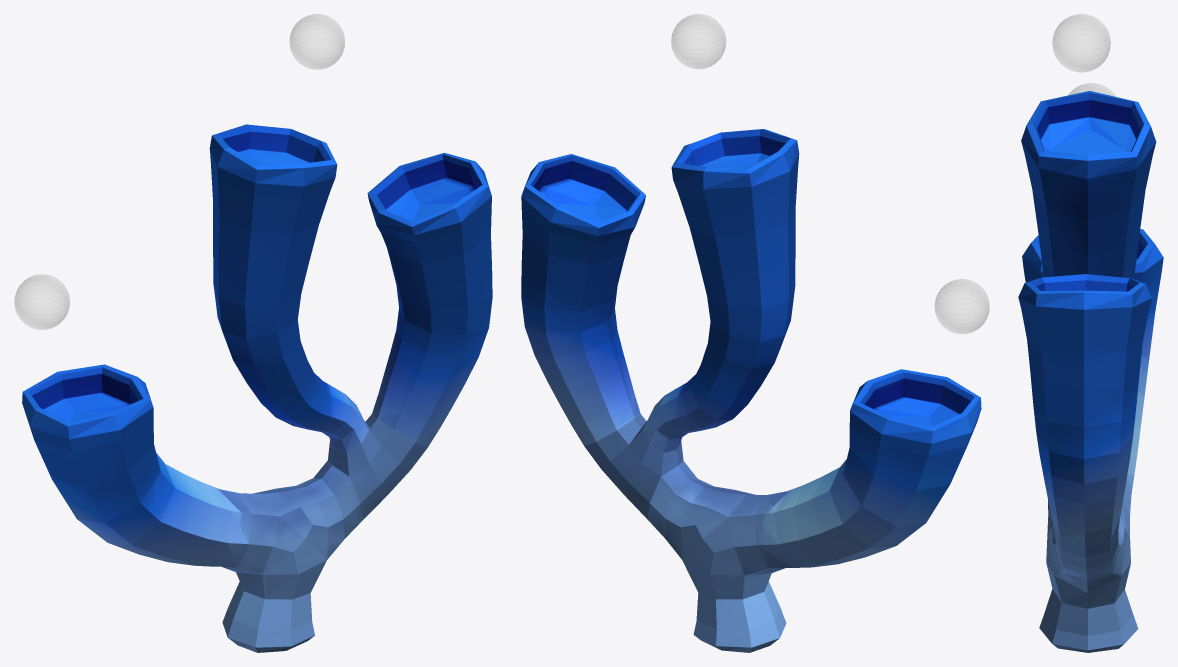
The model's file is coral7.glb.
3 views of the same model, side by side, from view 1: azimuth 30°, elevation 25°; view 2: azimuth 150°, elevation 25°; view 3: azimuth 270°, elevation 25° (orthographic). The views are drawn at different scales.
Visible parts, largest first — view 1: Coral07, Sphere.002, Sphere; view 2: Coral07, Sphere.002, Sphere; view 3: Coral07, Sphere, Sphere.002.
Part boxes in pixels (left/top/right/bottom): Coral07: left=22, top=124, right=492, bottom=652; Sphere.002: left=14, top=274, right=69, bottom=329; Sphere: left=289, top=14, right=344, bottom=69; Coral07: left=521, top=129, right=981, bottom=652; Sphere.002: left=935, top=279, right=989, bottom=333; Sphere: left=671, top=14, right=725, bottom=68; Coral07: left=1018, top=91, right=1163, bottom=652; Sphere: left=1052, top=14, right=1110, bottom=72; Sphere.002: left=1068, top=83, right=1115, bottom=96.
Bounding box in the file's own units: 0.813 × 1.03 × 0.2094.
Materials: 2 (1 with a texture image).
